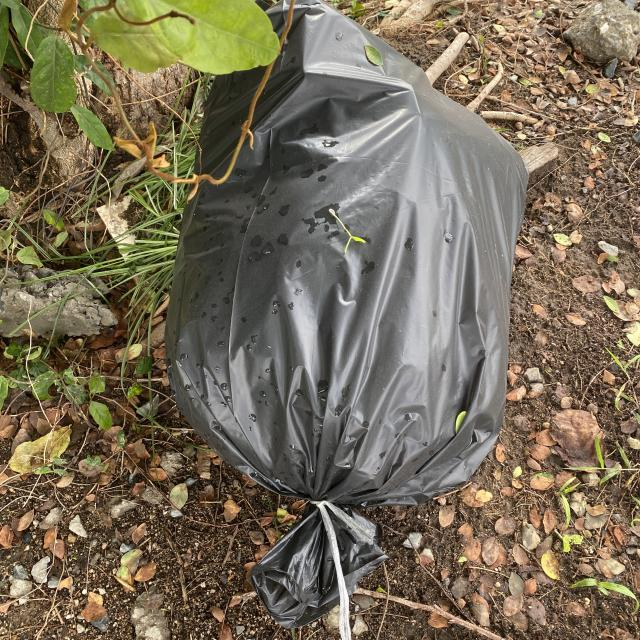Single-layer Plastic: (165, 0, 528, 640)
